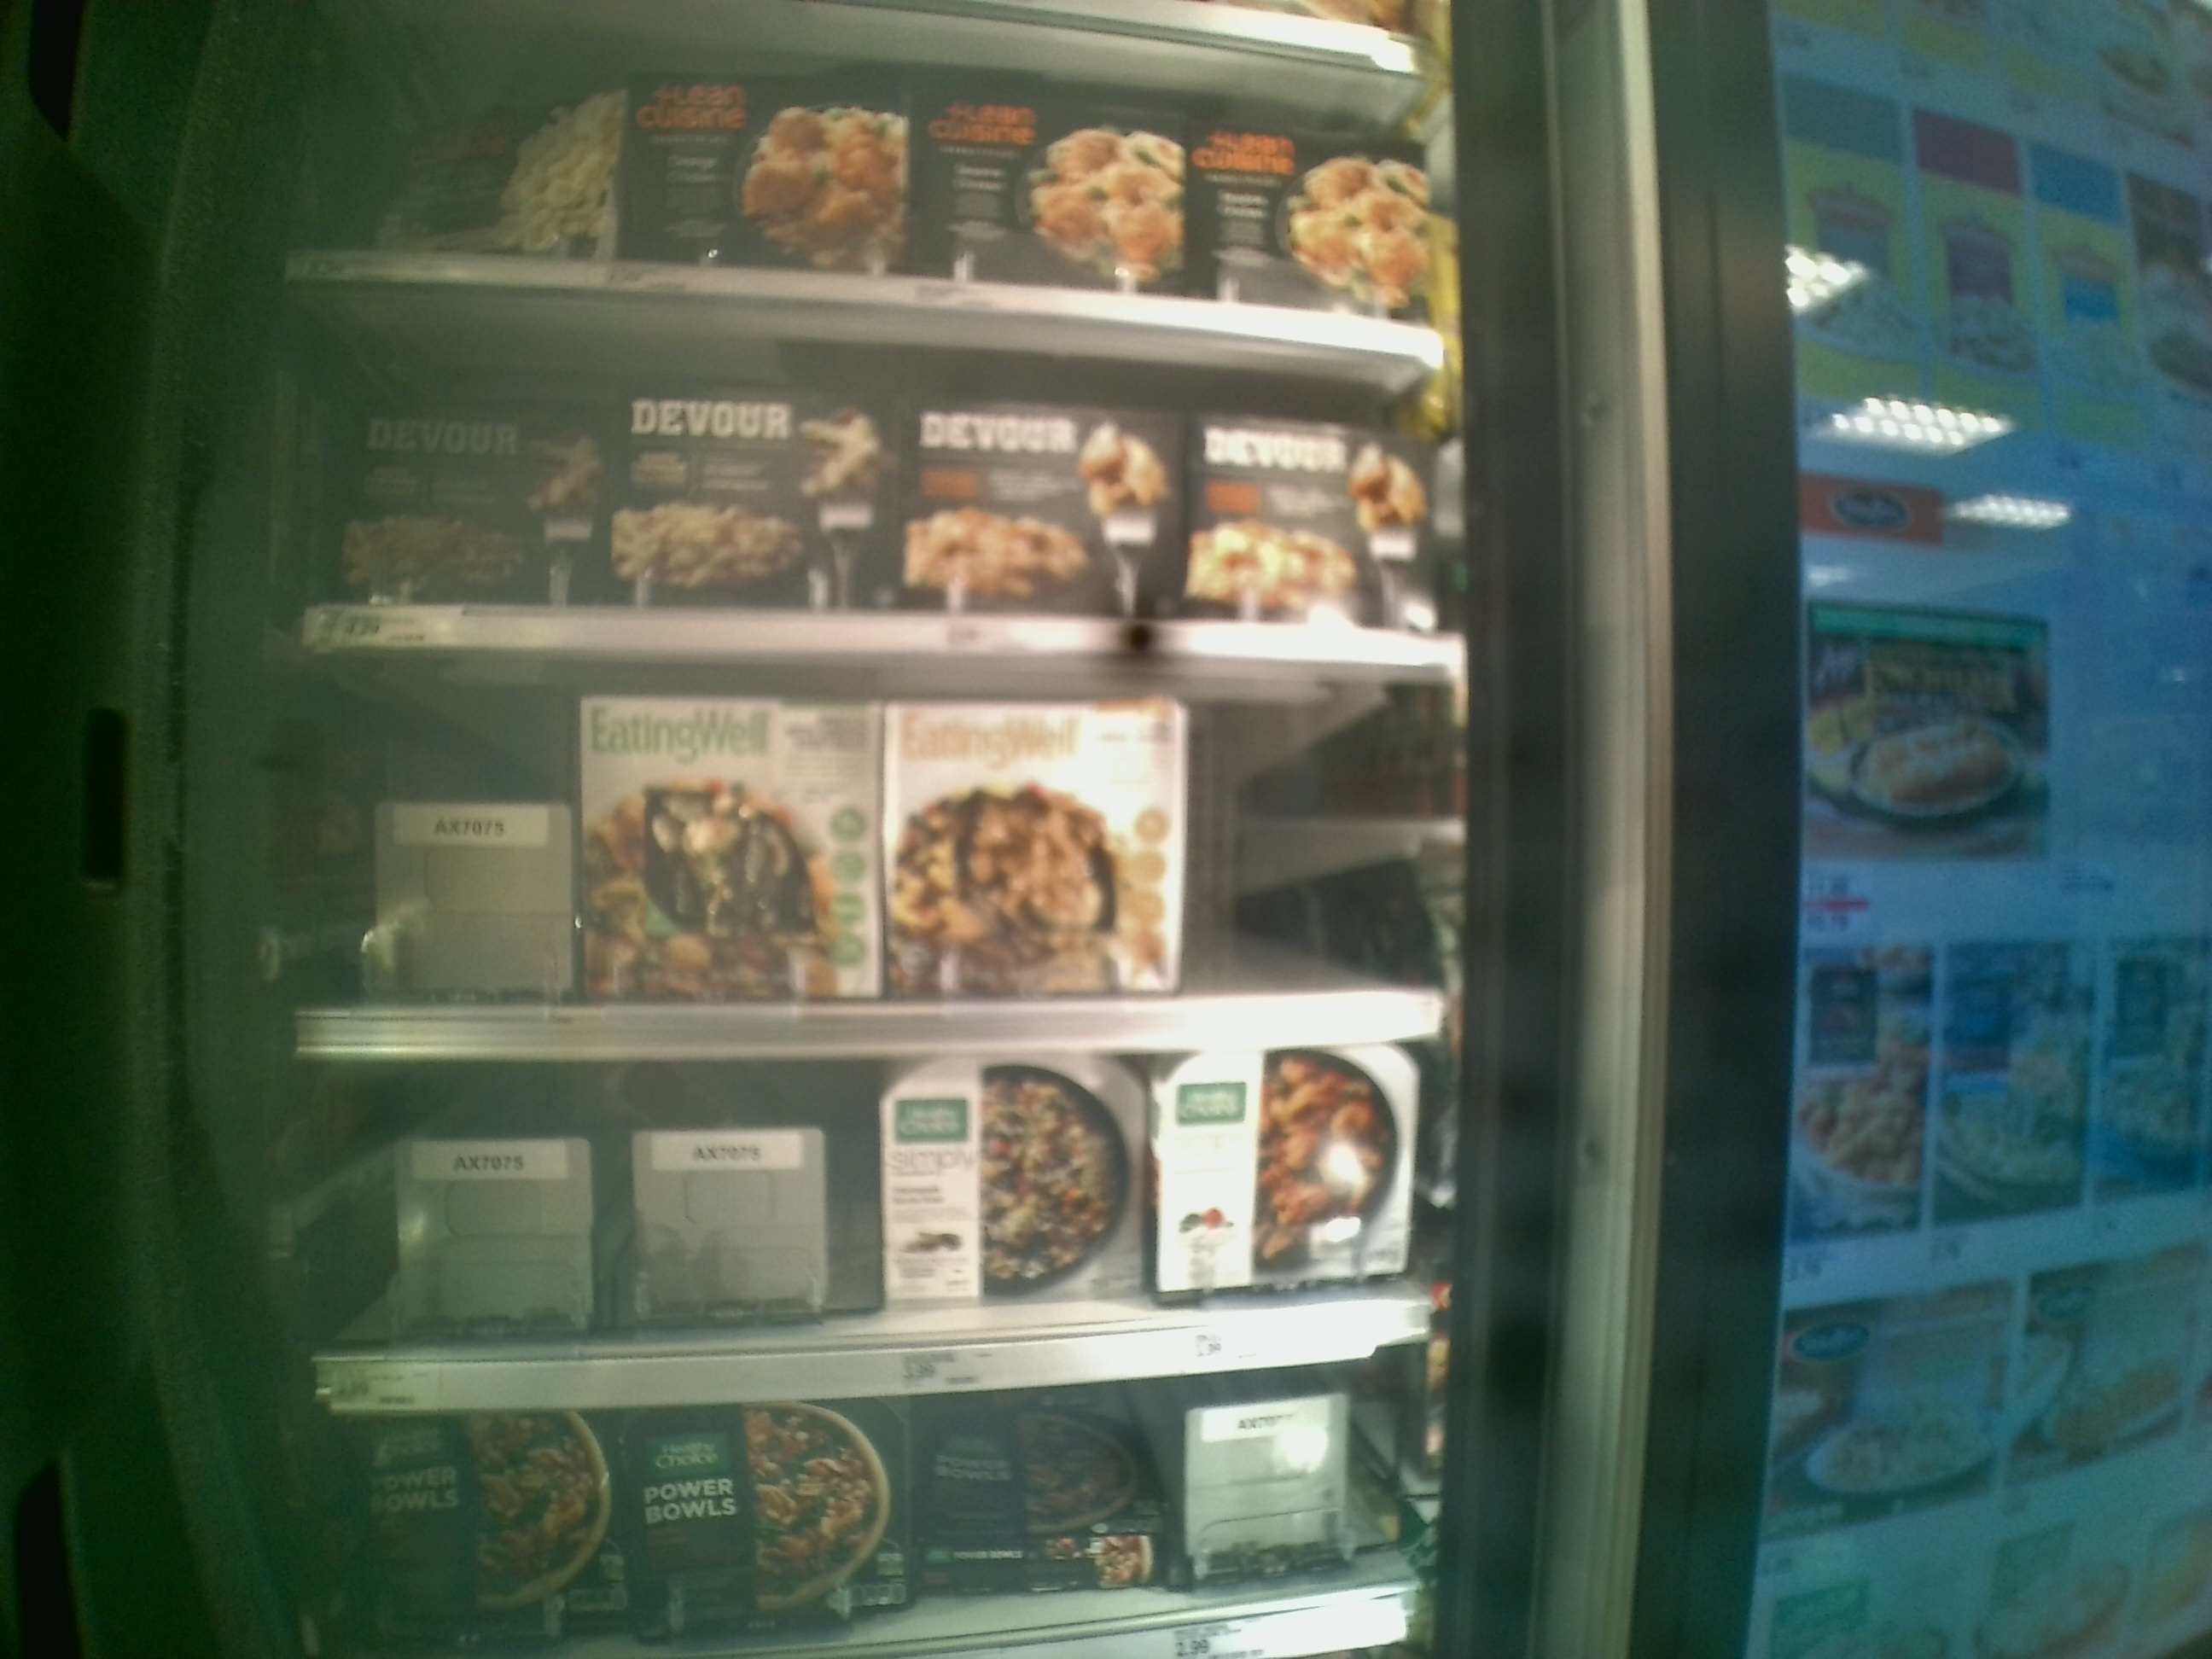shelf: (291, 647, 1463, 1047), (284, 282, 1458, 667), (296, 1047, 1479, 1412)
